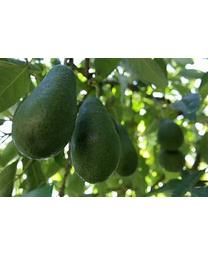avocado: (11, 66, 81, 160), (76, 95, 120, 185)
